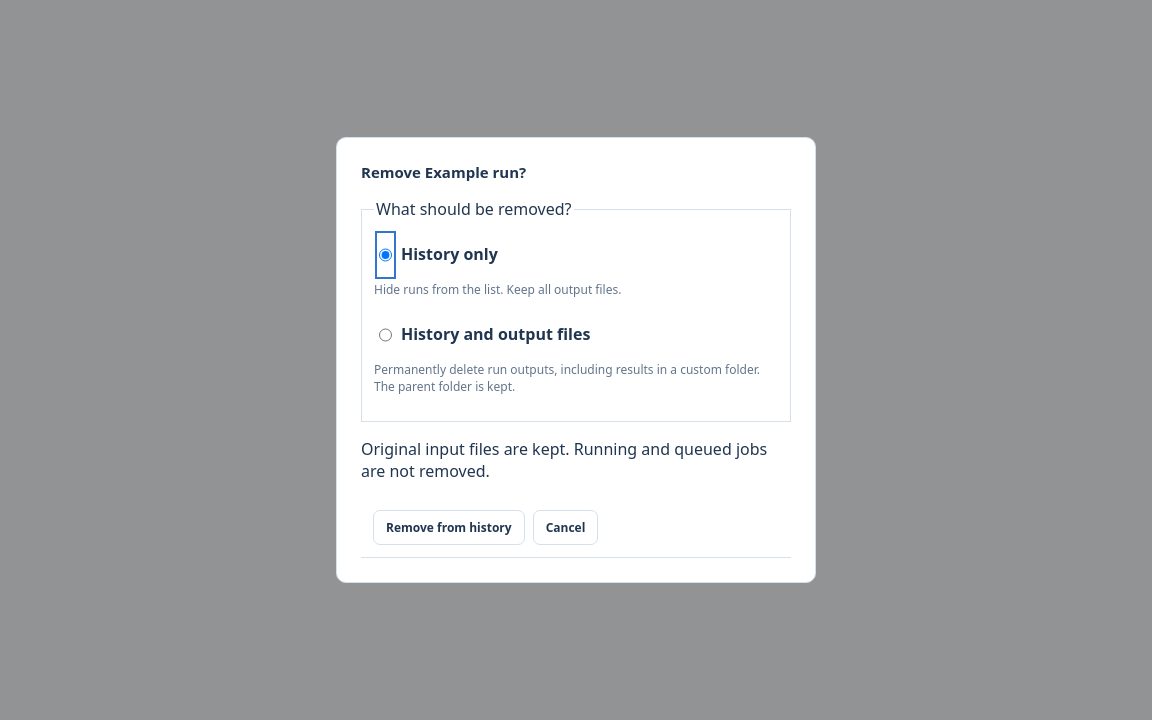
Test: explains permanent deletion and displays backend protection errors
The image size is (1152, 720).
Step 1. Click the radio button labelled "History and output files" → (386, 335), box top-left (379, 315), bottom-right (392, 355)
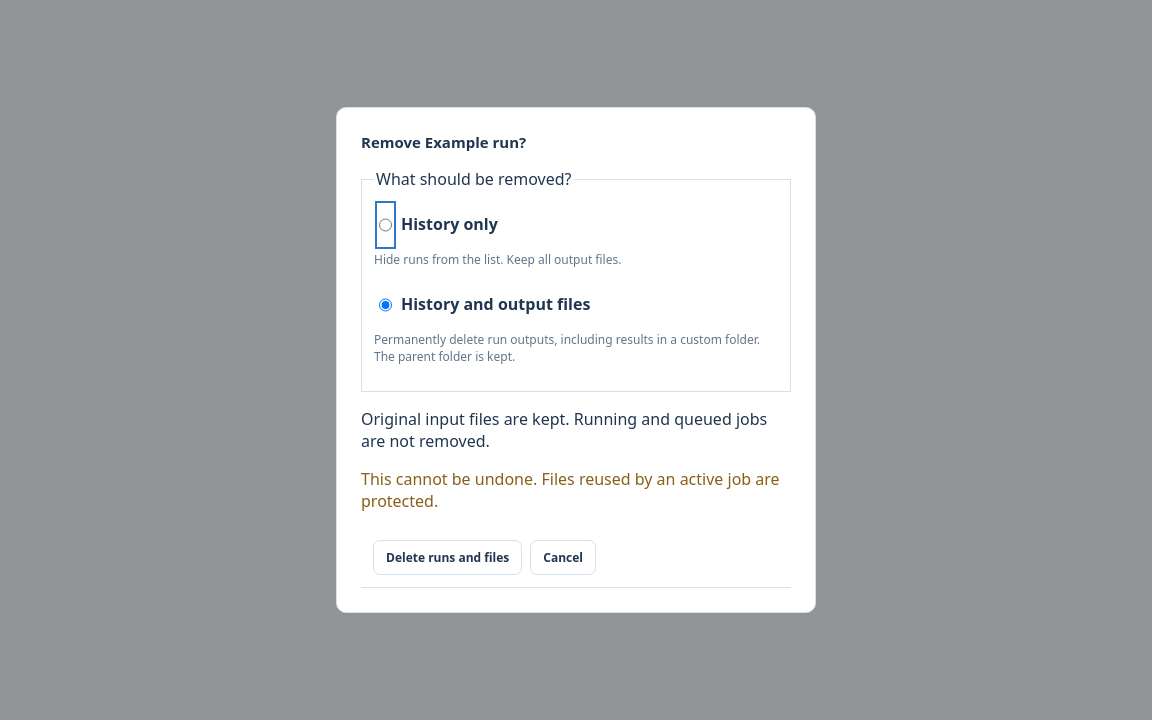
Now the text "cannot be undone" is shown, box top-left (361, 468), bottom-right (542, 490)
Step 2. Click the button "Delete runs and files" → (448, 558), box top-left (373, 540), bottom-right (522, 575)
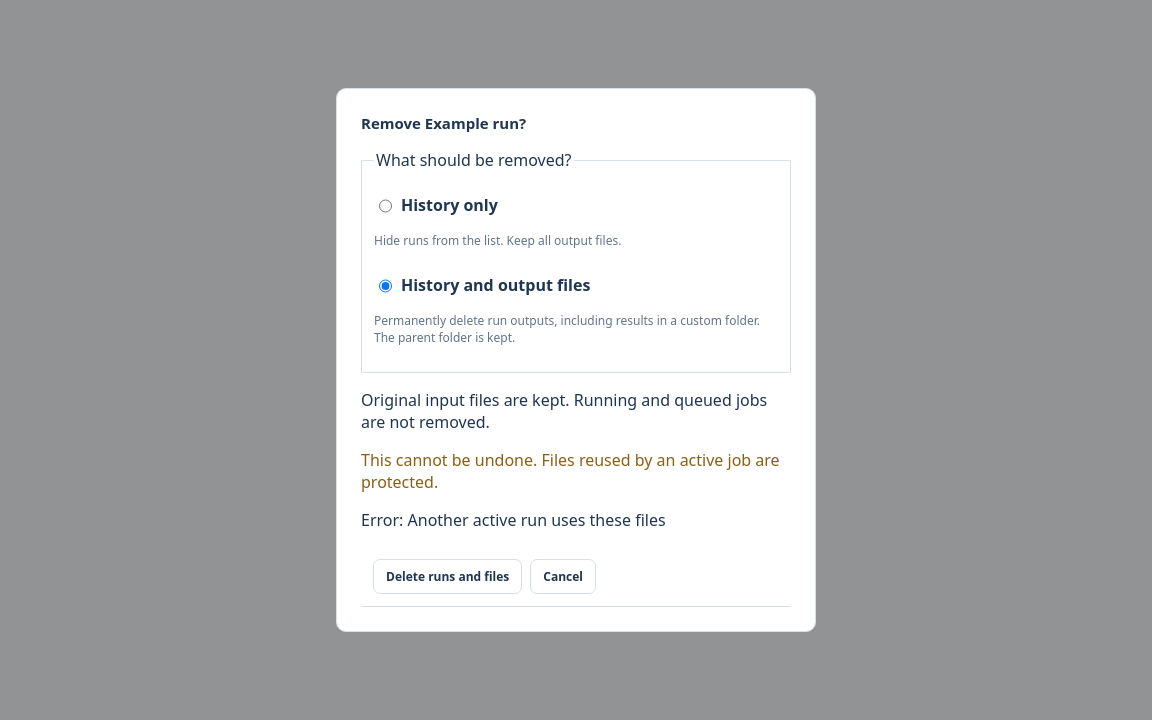
Now the message shows "Another active run uses these files", box top-left (361, 509), bottom-right (666, 531)
